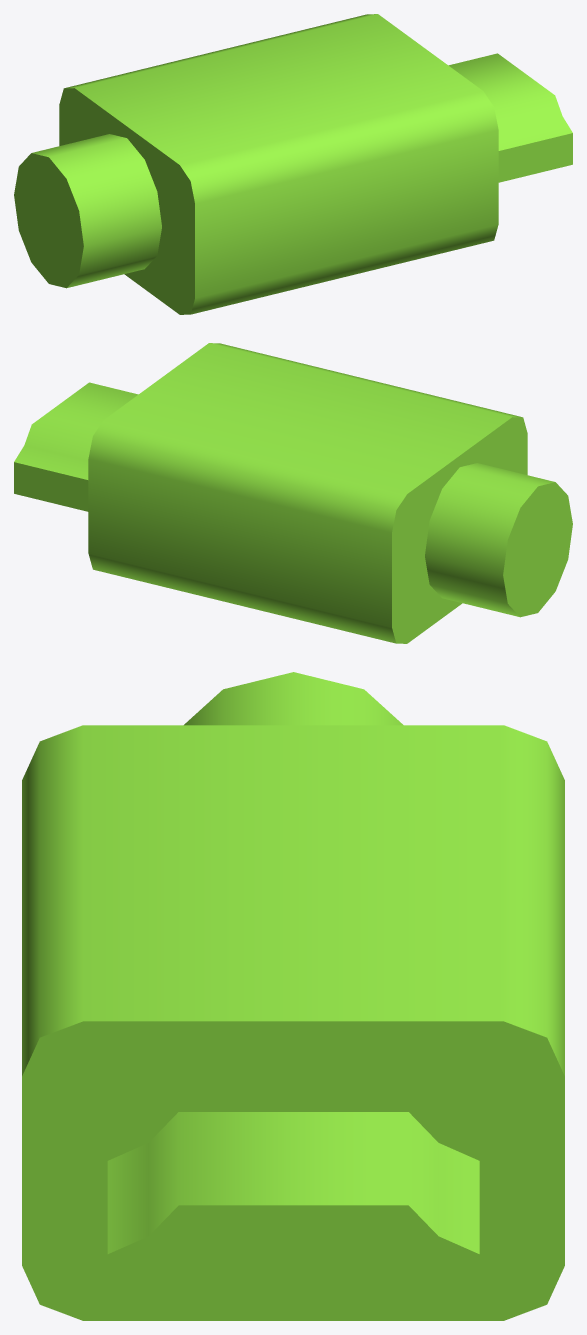
Rendered from SM_HDMI.fbx.
The picture shows the model from 3 angles, top to bottom: view 1: azimuth 30°, elevation 25°; view 2: azimuth 150°, elevation 25°; view 3: azimuth 270°, elevation 25°; orthographic projection. The views are drawn at different scales.
Parts seen in each view (by area): view 1: SM_HDMI; view 2: SM_HDMI; view 3: SM_HDMI.
Part boxes in pixels (x1=…): SM_HDMI: x1=14, y1=14, x2=572, y2=314; SM_HDMI: x1=14, y1=343, x2=572, y2=643; SM_HDMI: x1=22, y1=672, x2=564, y2=1320.
Bounding box in the file's own units: 4.44 × 1.33 × 2.19.
